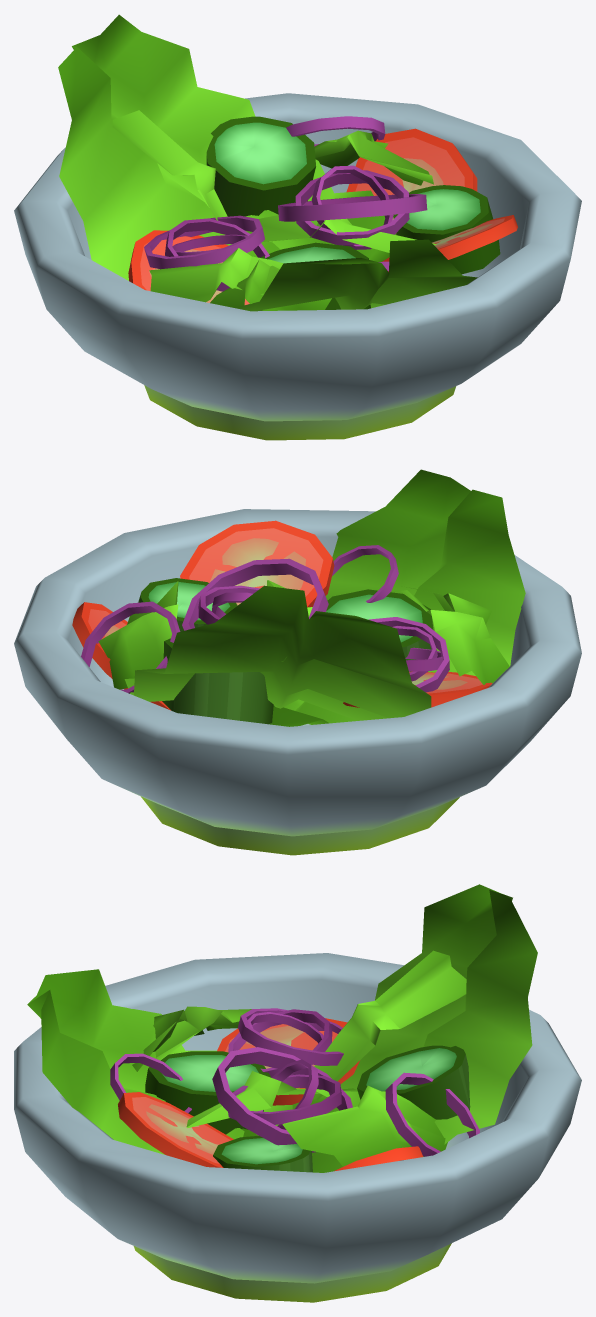
The model's file is Product Salad.fbx.
3 renders of one model, top to bottom at view 1: azimuth 30°, elevation 25°; view 2: azimuth 150°, elevation 25°; view 3: azimuth 270°, elevation 25°, orthographic.
Parts seen in each view (by area): view 1: Product_Salad; view 2: Product_Salad; view 3: Product_Salad.
Boxes of the visible parts, <box> form: Product_Salad: <box>14,14,581,440</box>; Product_Salad: <box>14,469,581,855</box>; Product_Salad: <box>14,884,581,1302</box>.
Size of the model in its own units: 153 by 88.13 by 151.
